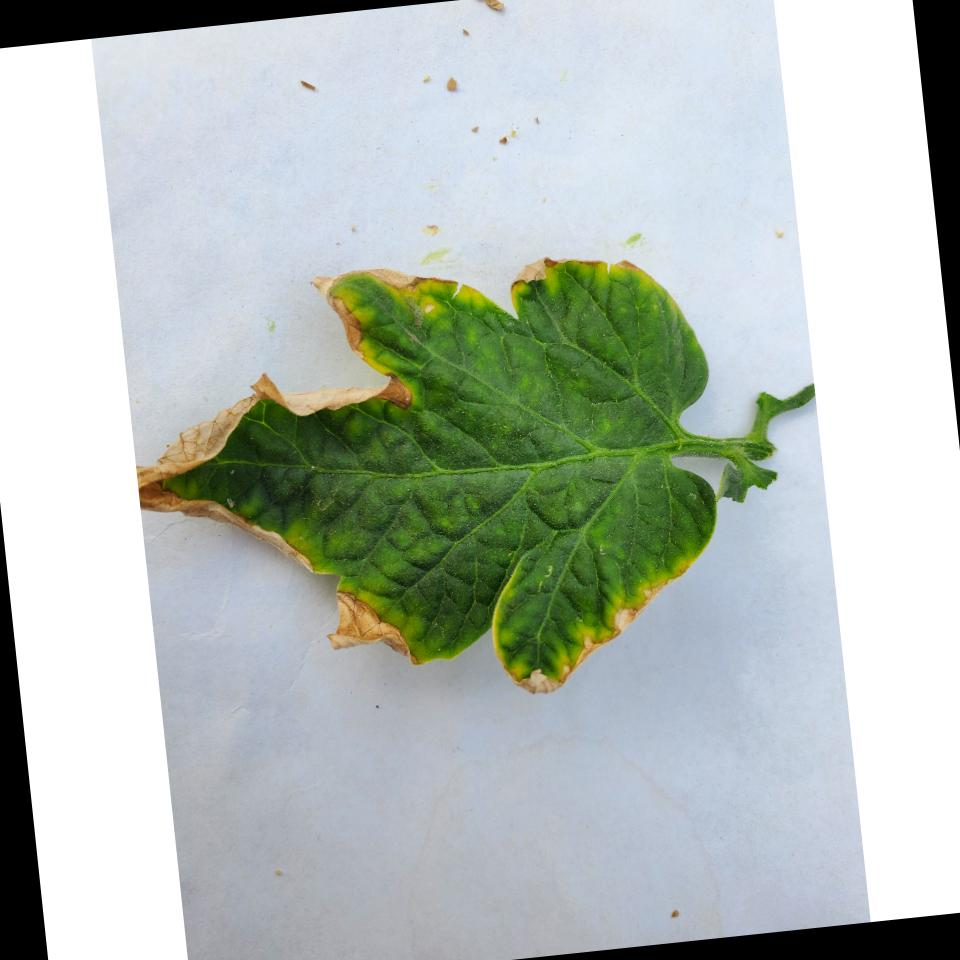tomato_bacterial_blight: (121, 232, 807, 673)
